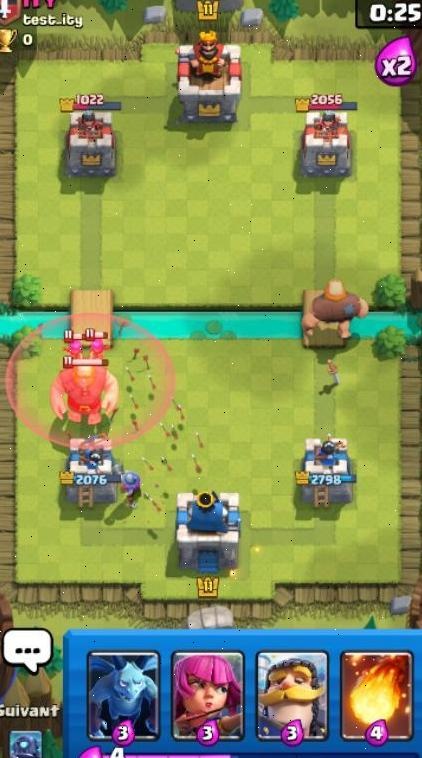enemy_archers: (85, 329, 111, 361), (60, 331, 86, 362)
enemy_giant: (48, 350, 124, 426)
player_giant: (299, 276, 372, 343)
player_musketeer: (113, 462, 147, 505)
